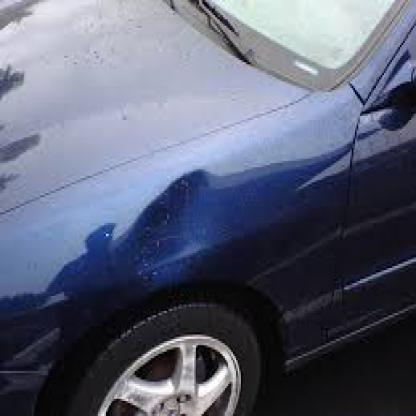dent: (126, 154, 216, 274)
